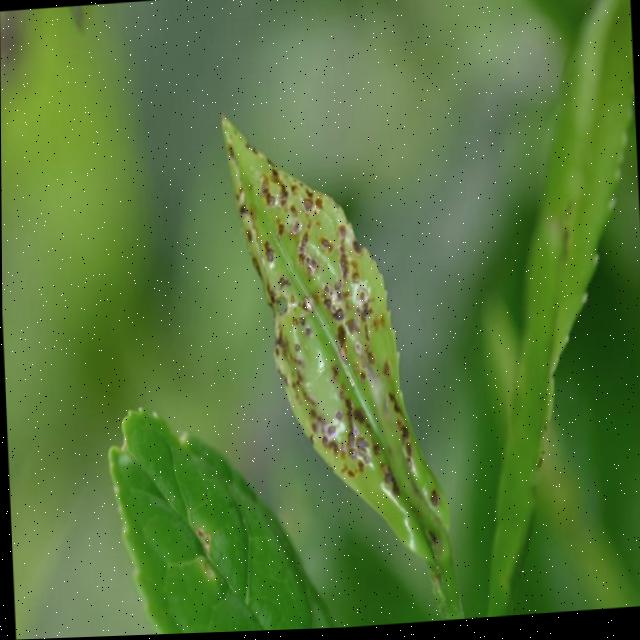Tea red scab: (225, 106, 442, 526)
